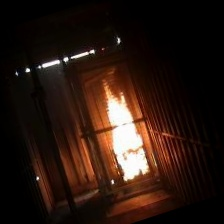fire: (87, 65, 161, 191)
